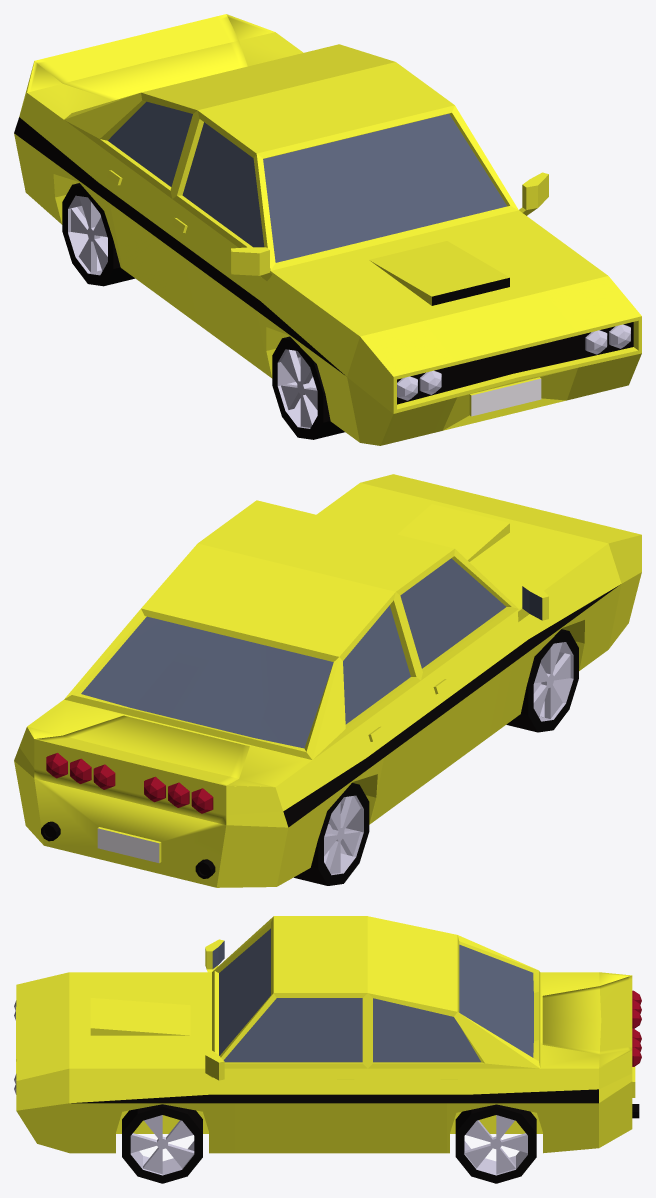
Rendered from Muscle.fbx.
The picture shows the model from 3 angles, top to bottom: view 1: azimuth 30°, elevation 25°; view 2: azimuth 150°, elevation 25°; view 3: azimuth 270°, elevation 25°; orthographic projection. The views are drawn at different scales.
Parts seen in each view (by area): view 1: Muscle, Trunk, Muscle wheel front right, Muscle wheel rear right; view 2: Muscle, Trunk, Muscle wheel front right, Muscle wheel rear right; view 3: Muscle, Trunk, Muscle wheel front left, Muscle wheel rear left.
Part boxes in pixels (box(x1,y1,x2,y2)): Muscle: box(14, 14, 641, 445); Trunk: box(34, 14, 247, 100); Muscle wheel front right: box(272, 336, 344, 439); Muscle wheel rear right: box(62, 183, 134, 286); Muscle: box(14, 474, 641, 887); Trunk: box(34, 715, 249, 824); Muscle wheel front right: box(506, 629, 578, 732); Muscle wheel rear right: box(294, 783, 369, 885); Muscle: box(14, 916, 639, 1153); Trunk: box(542, 975, 641, 1066); Muscle wheel front left: box(122, 1104, 202, 1183); Muscle wheel rear left: box(455, 1104, 536, 1183).
Bounding box in the file's own units: 281 × 191 × 606.
